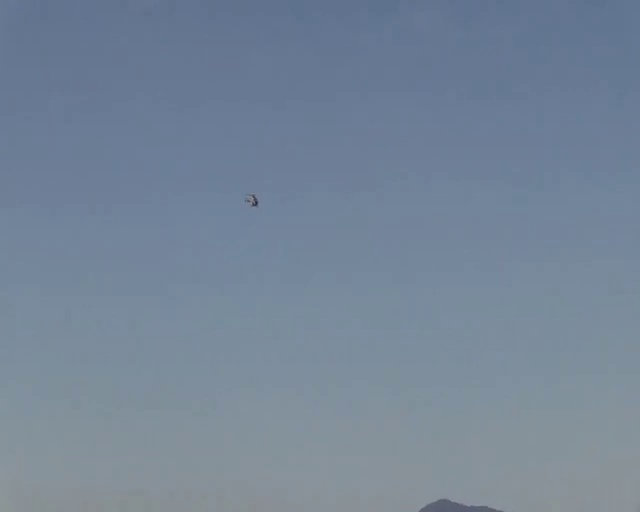HELICOPTER: (245, 193, 258, 207)
